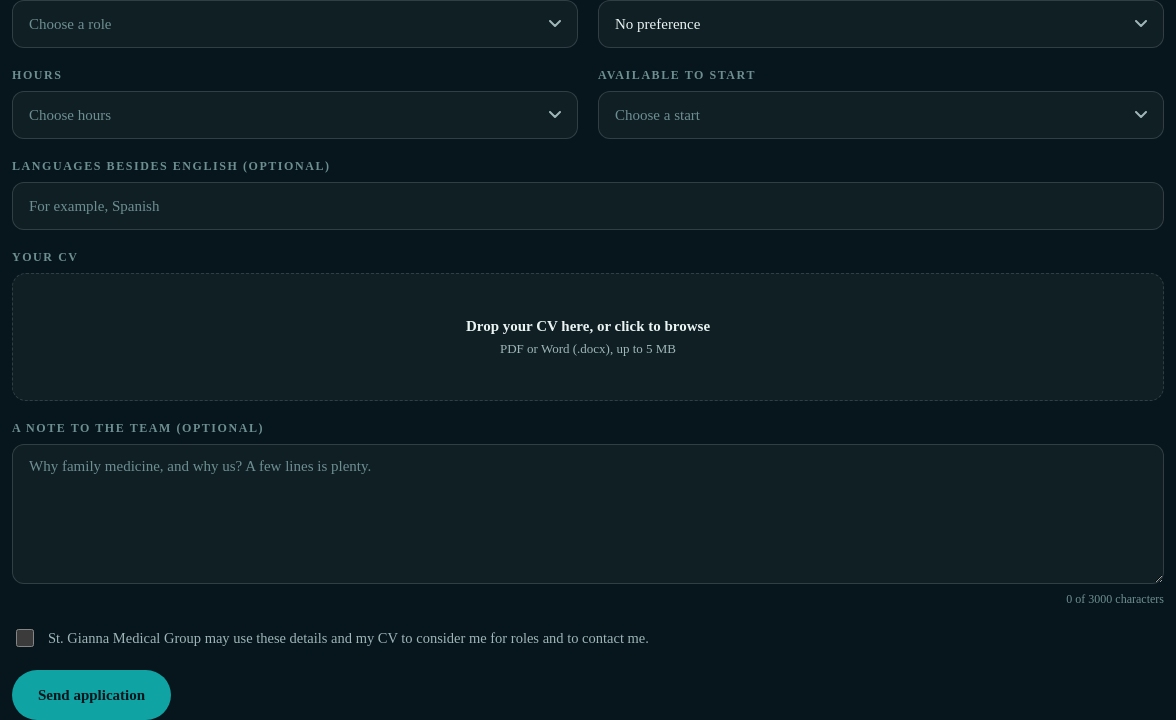
Scenario: CareersForm › clears a field's error once it is fixed
The image size is (1176, 720).
(page scrolled)
Click the button "Send application".
click(92, 695)  # box [12,670,171,719]
(page scrolled)
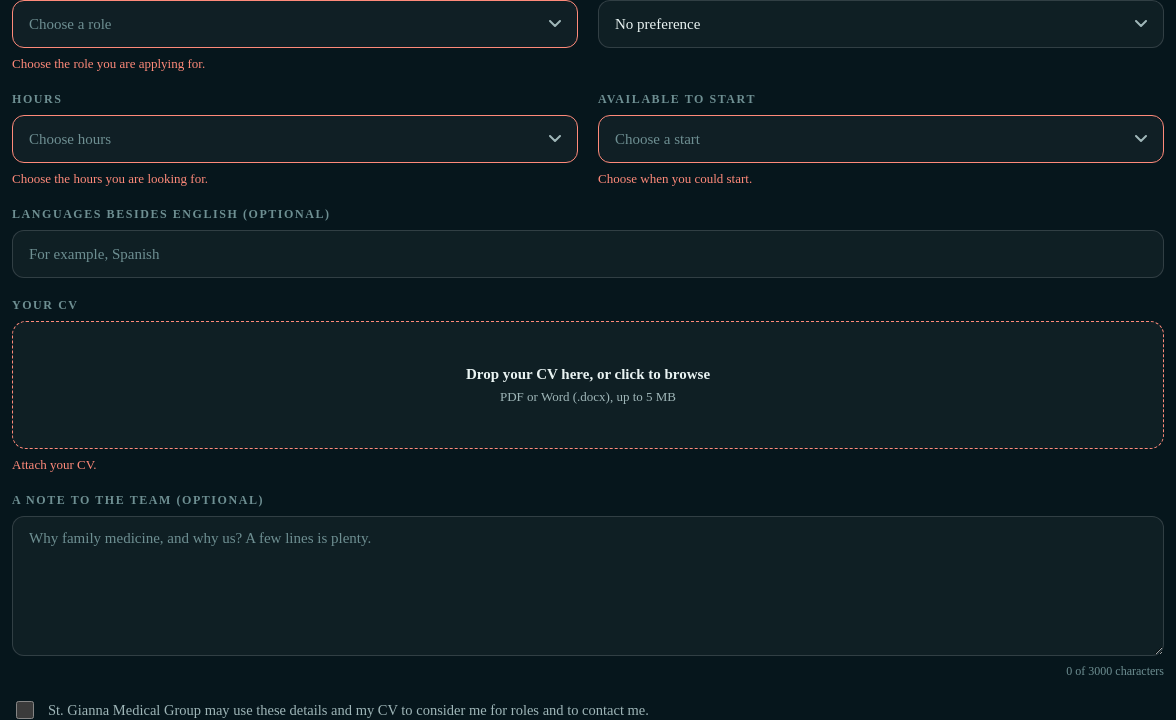
Check: the text "Choose the role you are applying for." is shown, box [12,56,205,71]
Click the dropdown labelled "Choose a role".
click(70, 24)  # box [12,0,578,48]
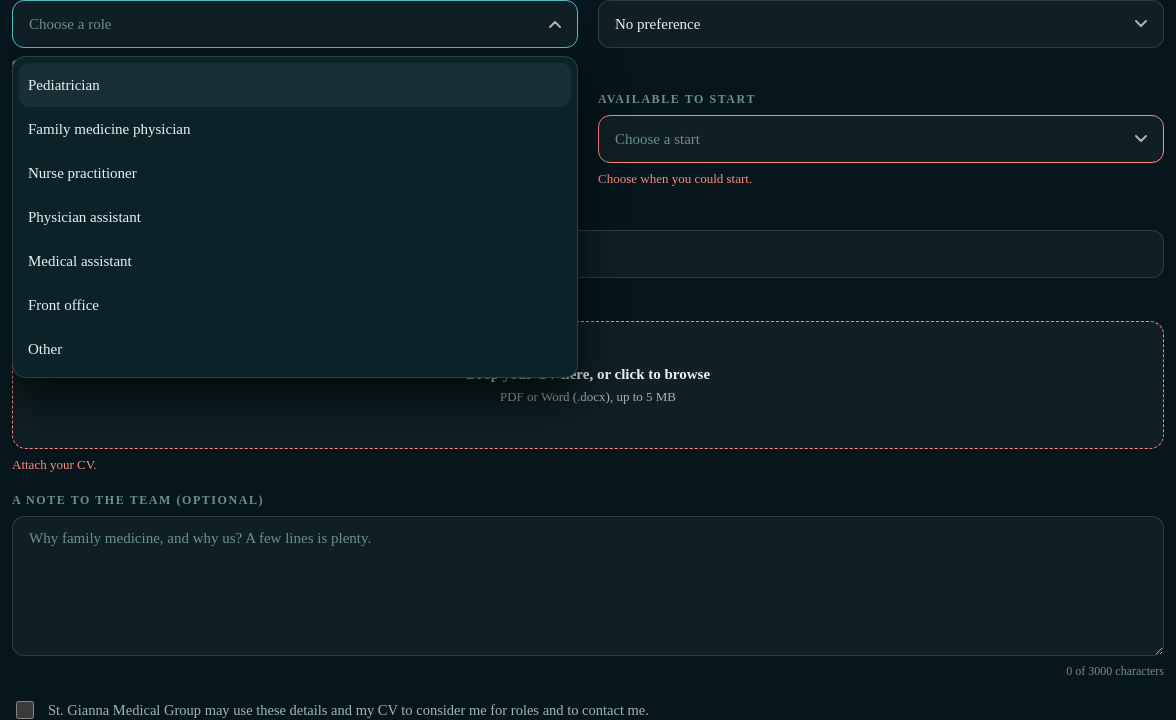
Click the option "Front office".
click(64, 304)  # box [28,296,99,312]
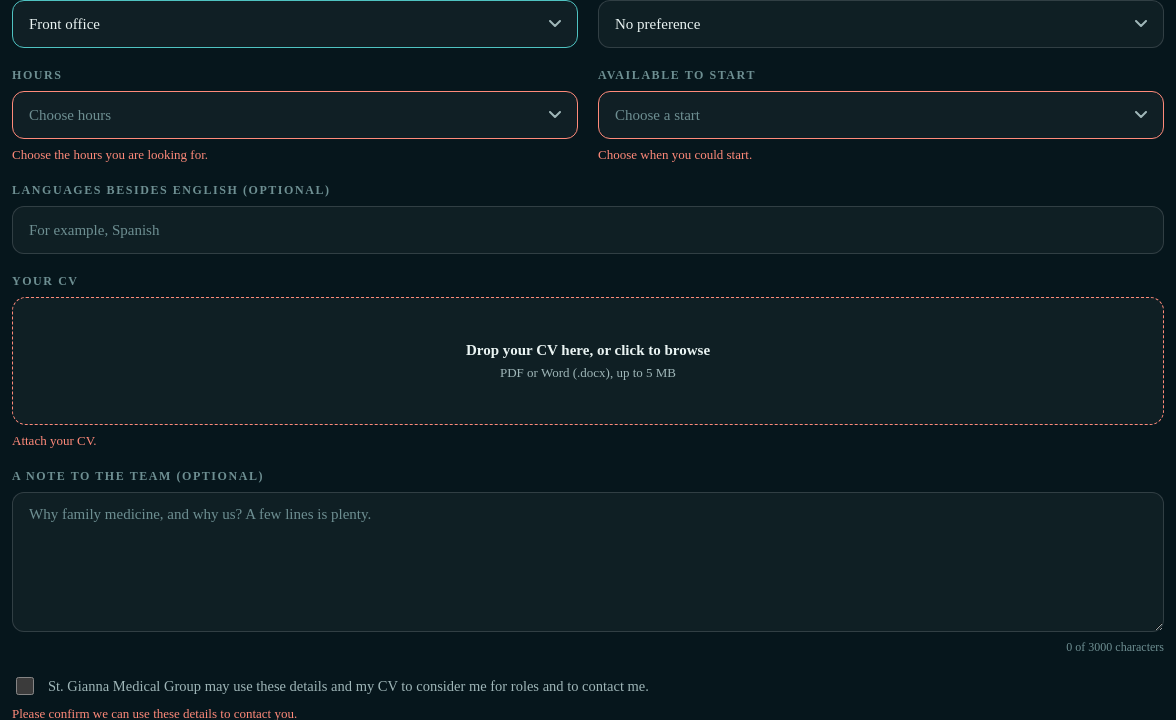
Check: the text "Choose the role you are applying for." is gone
